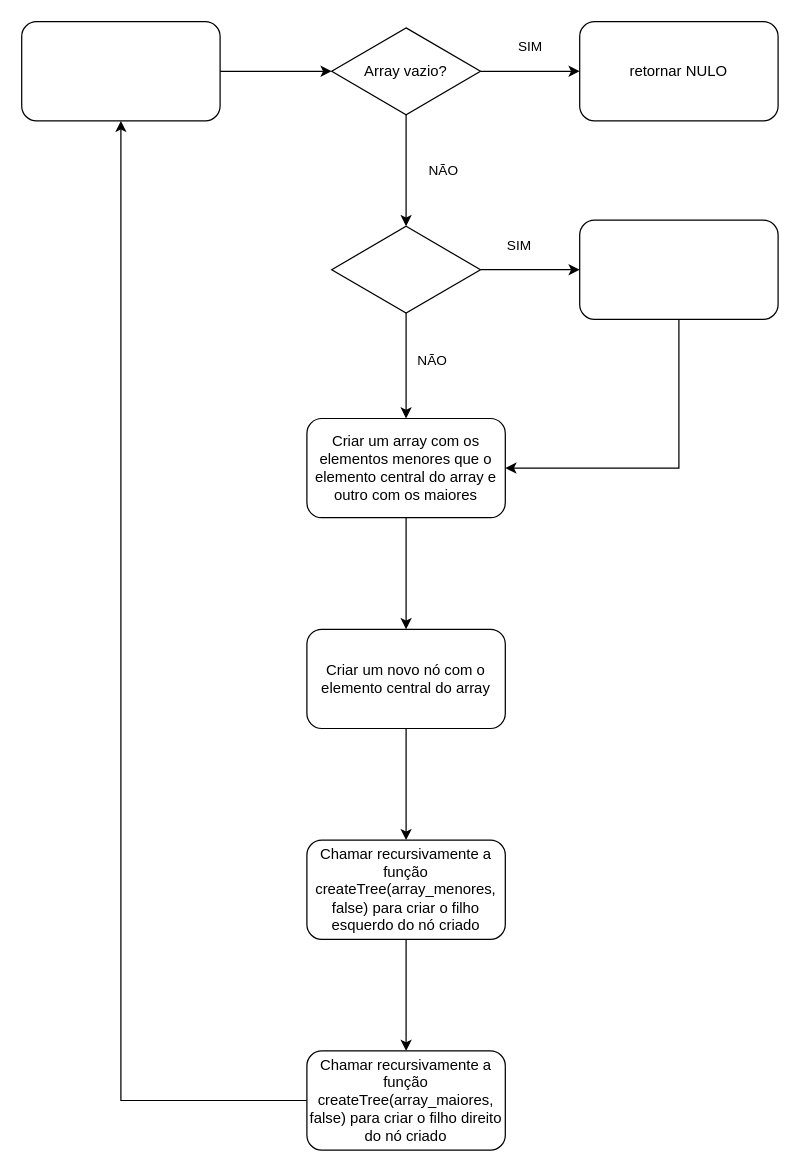
The diagram is 800 pixels wide and 1172 high, and some of its shapes have lost their labels. The shapes that lost their labels are listed below. From the top down, each one's centre as x and y in pixels, then its label:
At point (120, 70): "Chamar função createTree(array, firstCall=True)".
At point (405, 269): "Primeira chamada da função?".
At point (678, 269): "Ordenar o array".
